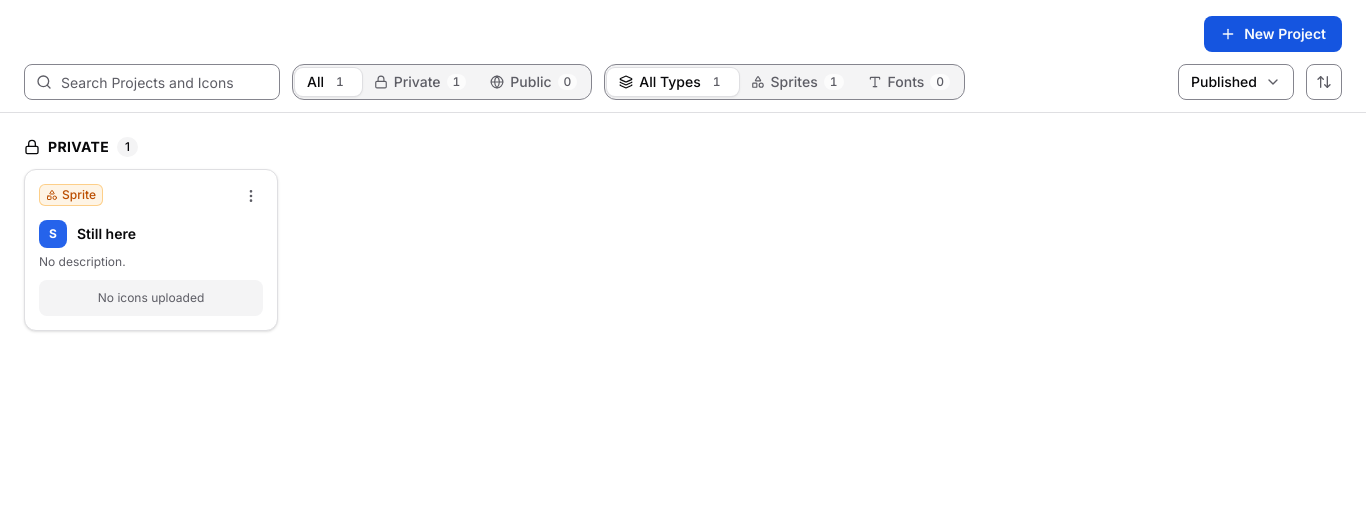
Test: search › shows a failed icon search without hiding the projects
Expected: the heading "Still here" is shown, [77,225,136,242]
Type "here" into the search field at (152, 82), box [24,64,280,100]
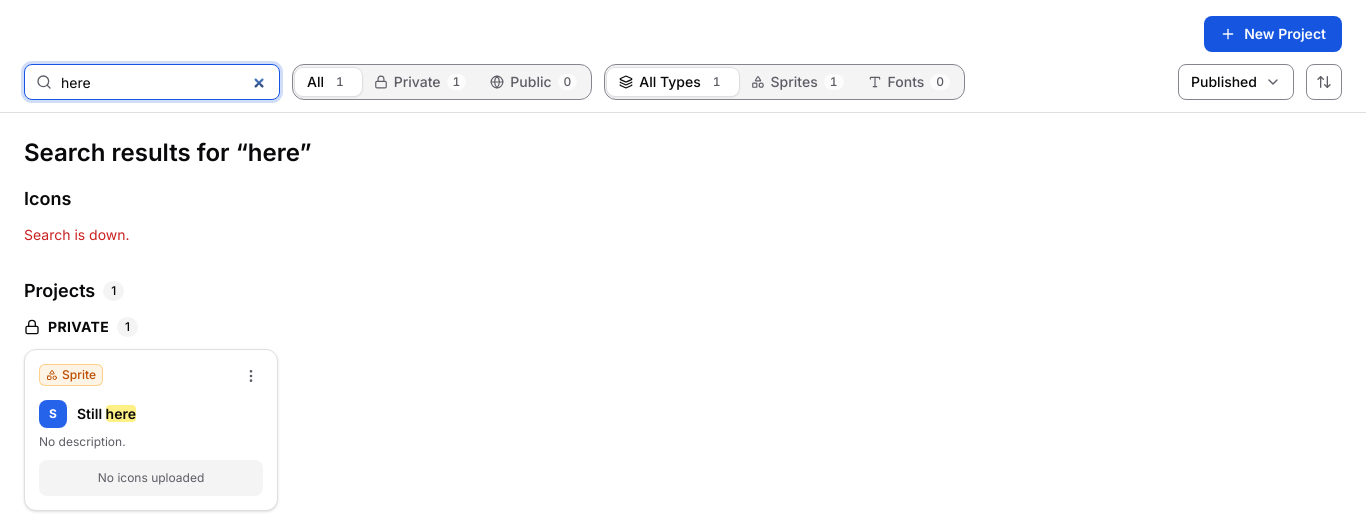
Expected: the heading "Still here" is shown, [77,405,136,422]
Expected: the text "Search is down." is shown, [24,226,130,243]
